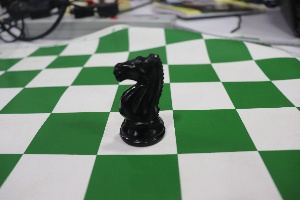black_horse: (103, 35, 173, 153)
